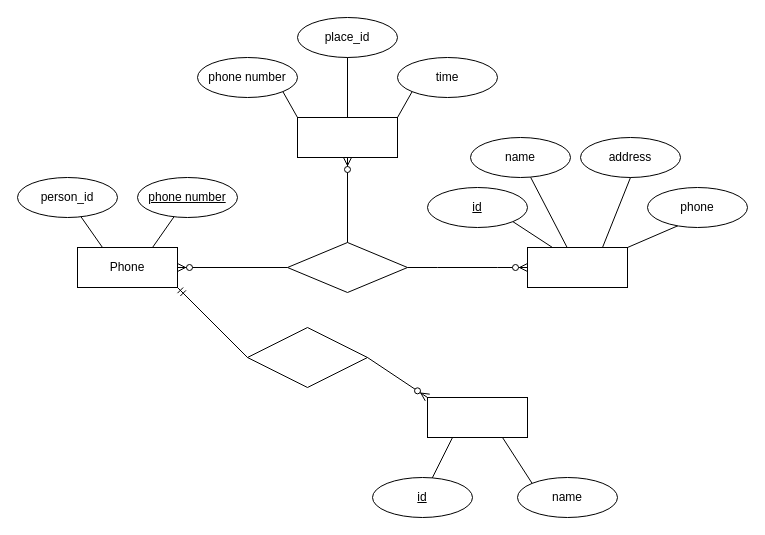
Some shapes in this 765 by 535 pixel diagram are drawn without their labels. The shapes that lost their labels are listed below. From the top down, each one's centre as x and y in pixels, then its label:
(347,137): Record
(347,267): Went
(577,267): Place
(307,357): Have
(477,417): Person
